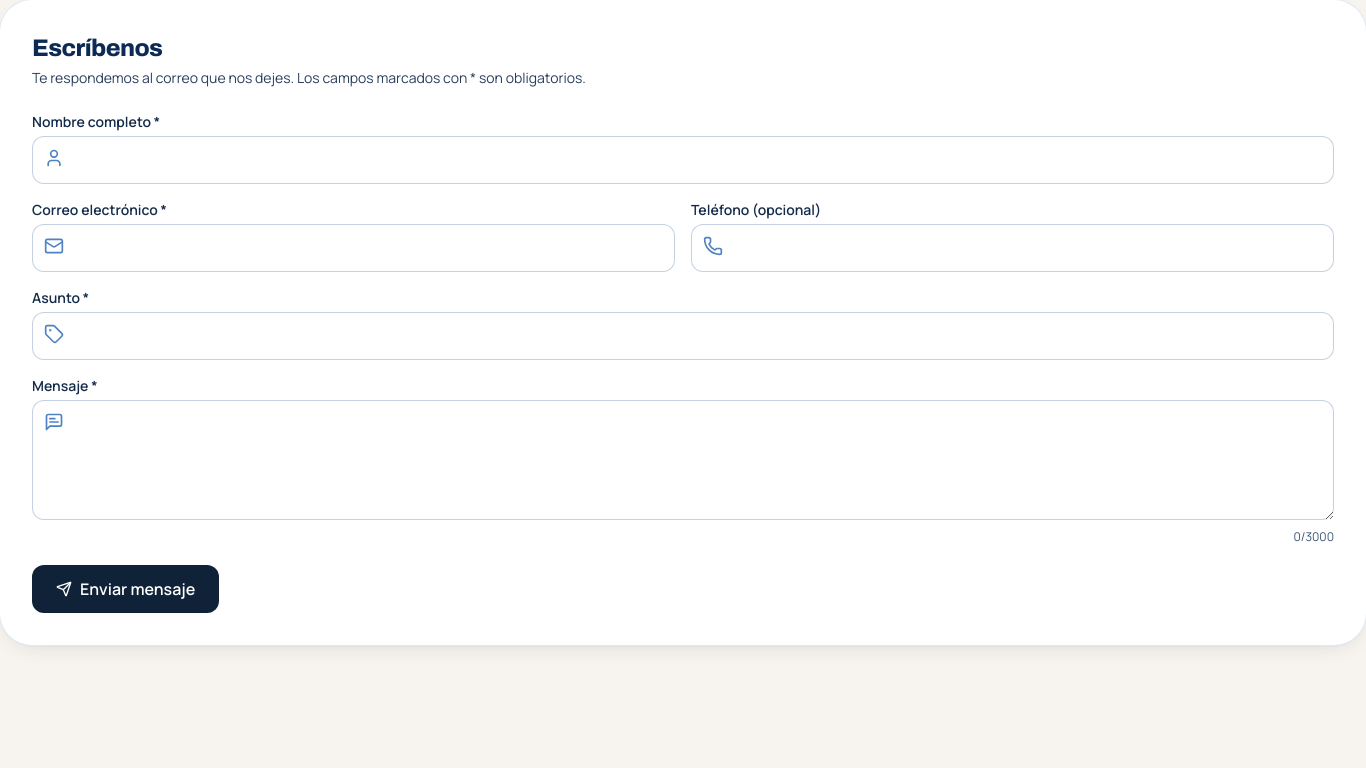
Scenario: formulario de contacto › envía al endpoint y confirma solo con la respuesta del servidor
Step 1. Type "Ana López" into the field labelled "Nombre completo *" → (683, 160), box x1=32 y1=136 x2=1334 y2=184
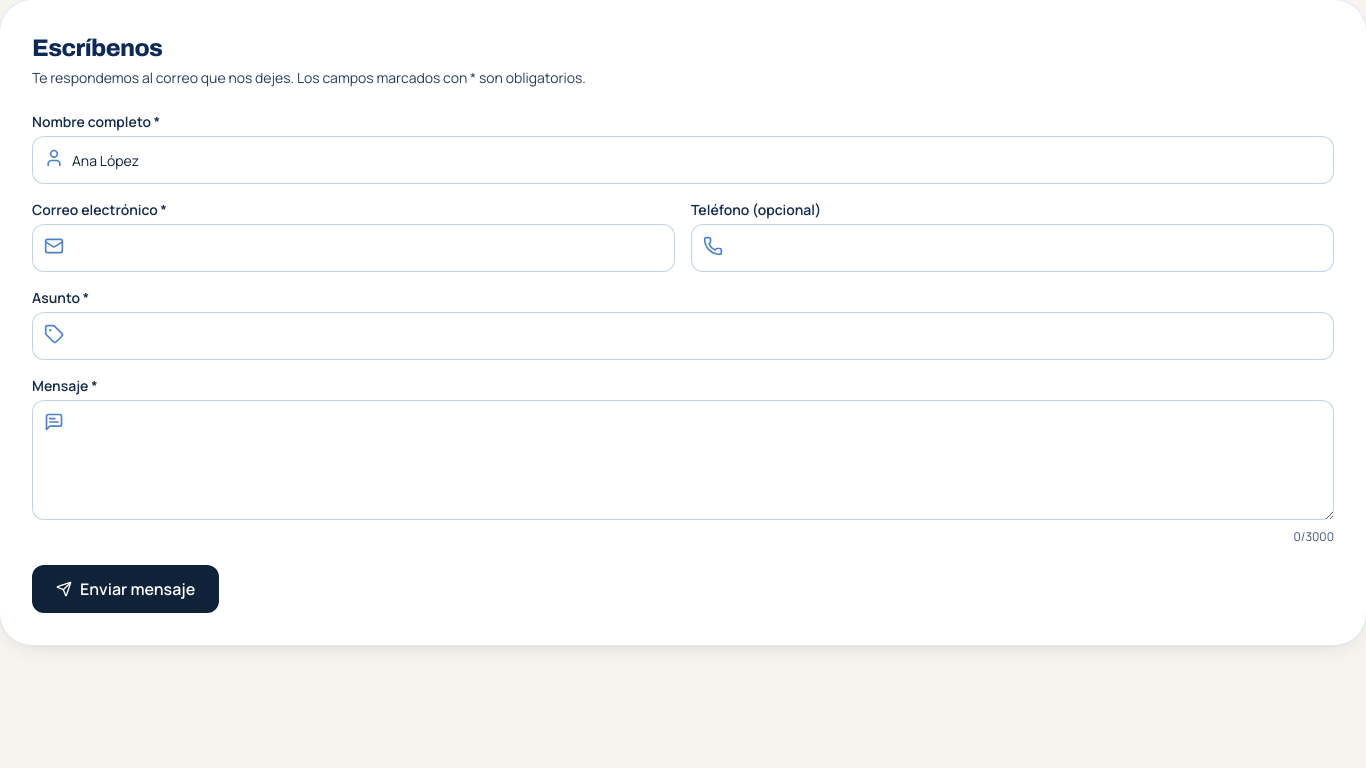
Step 2. Type "ana@ejemplo.mx" into the field labelled "Correo electrónico *" → (354, 248), box x1=32 y1=224 x2=675 y2=272
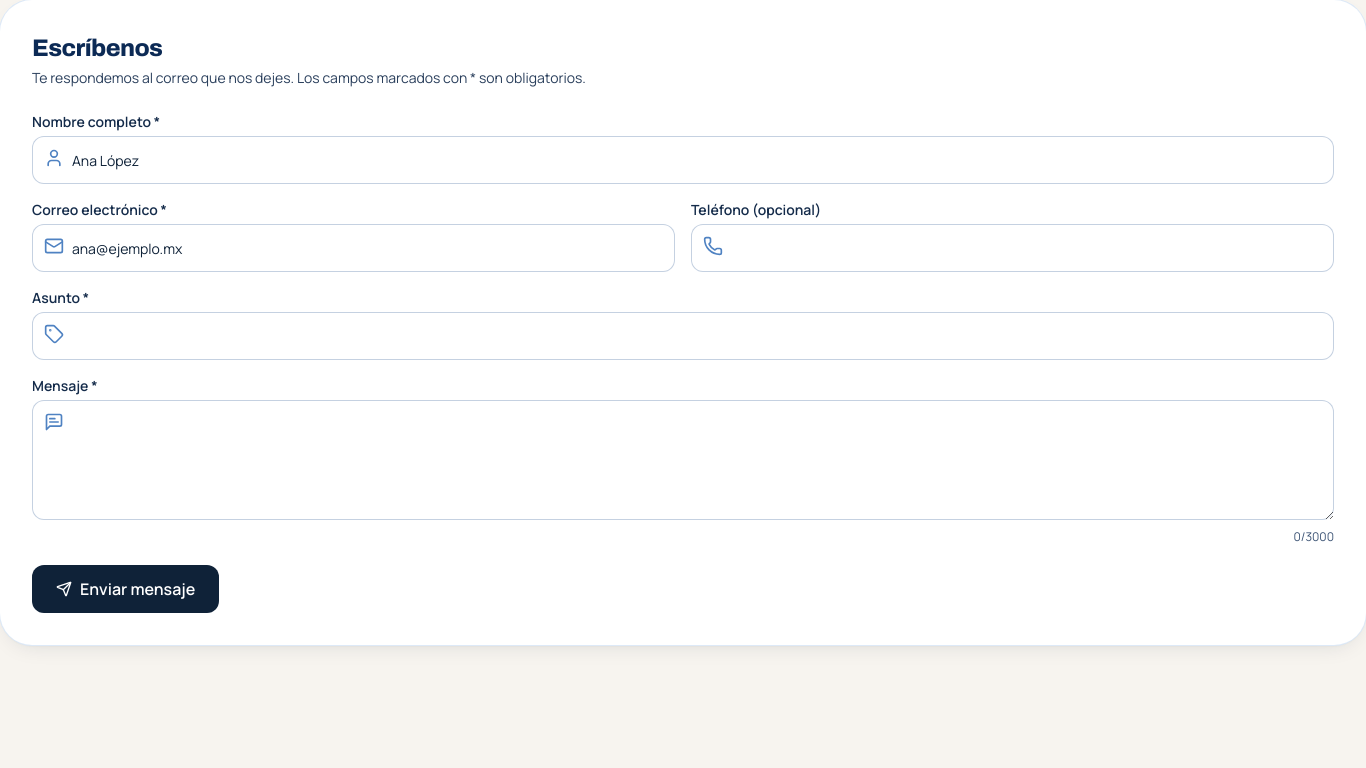
Step 3. Type "Cotización" into the field labelled "Asunto *" → (683, 336), box x1=32 y1=312 x2=1334 y2=360
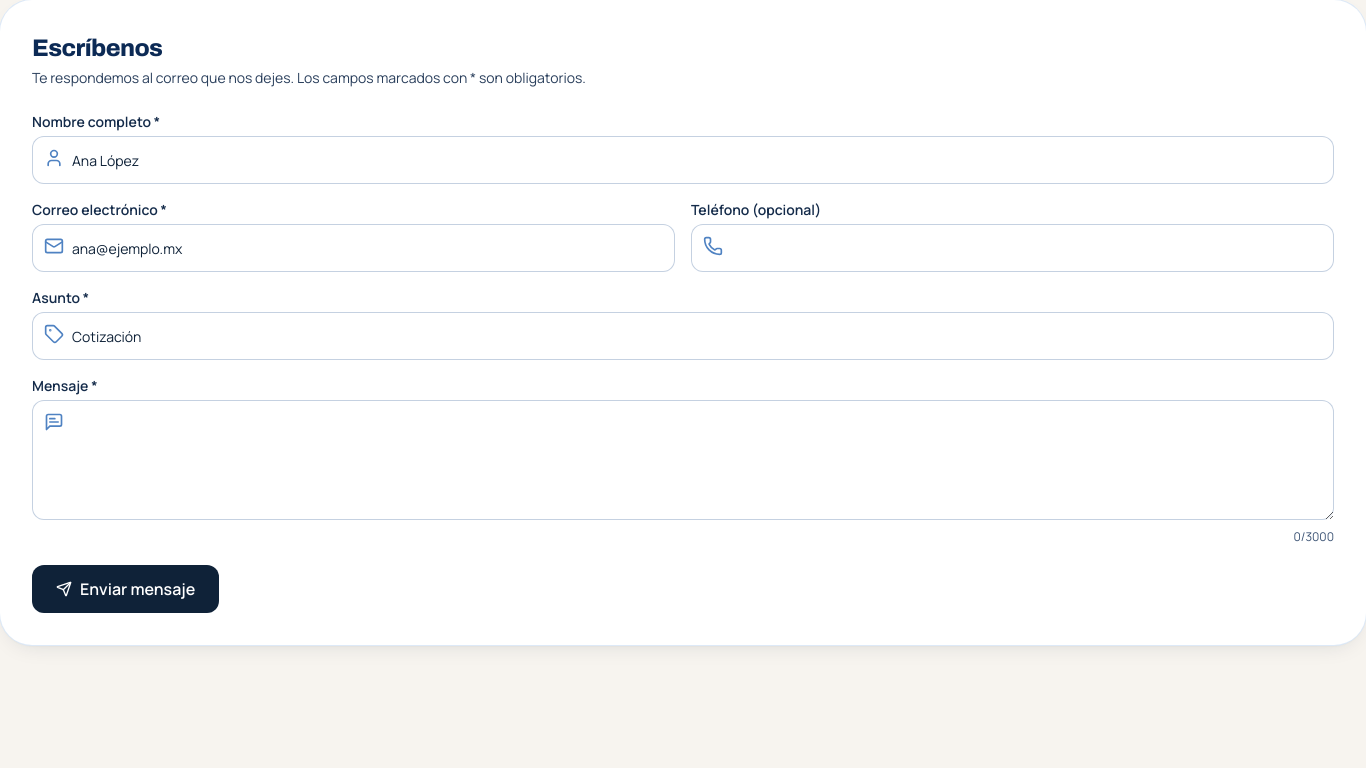
Step 4. Type "Quisiera información de batas." into the text box labelled "Mensaje * 0/3000" → (683, 460), box x1=32 y1=400 x2=1334 y2=520
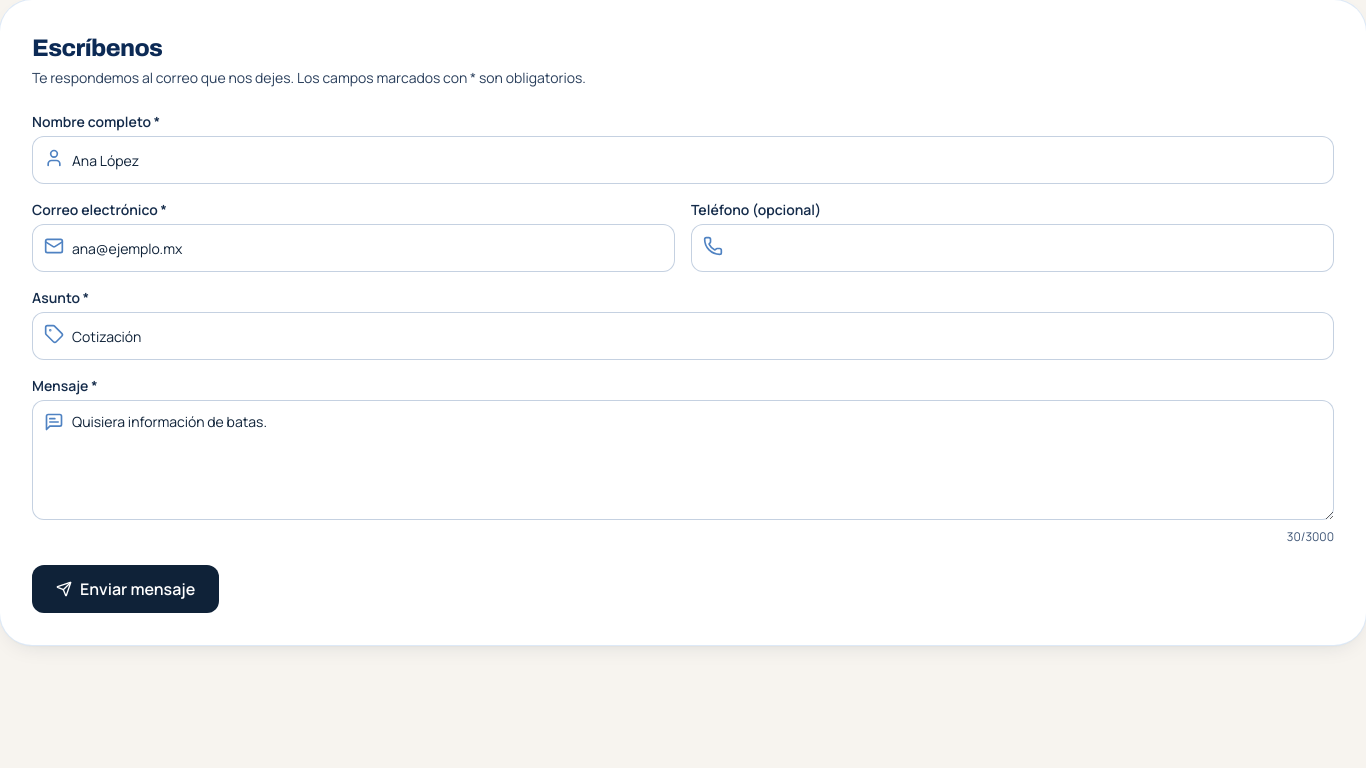
Step 5. Click the button "Enviar mensaje" → (126, 589), box x1=32 y1=565 x2=219 y2=613
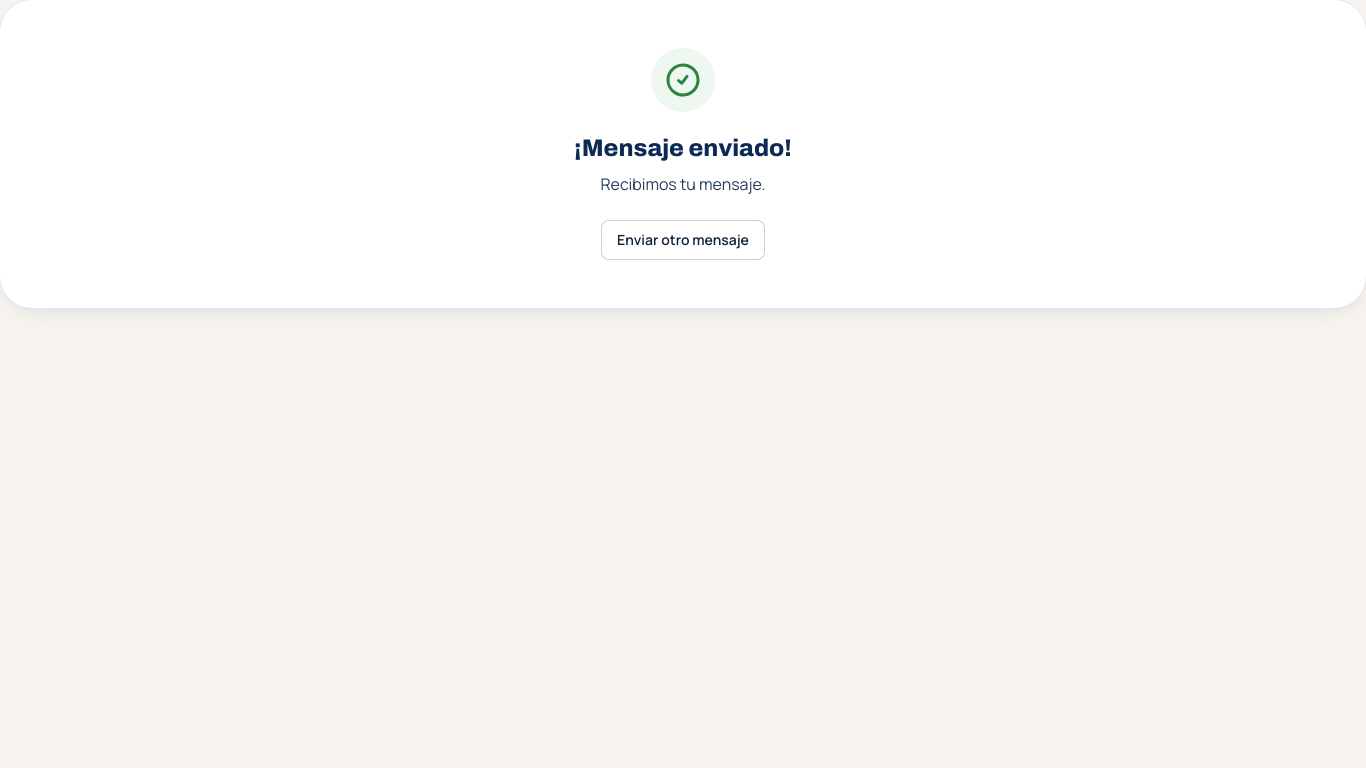
expect the message shows "Recibimos tu mensaje.": met, box x1=600 y1=173 x2=766 y2=195
